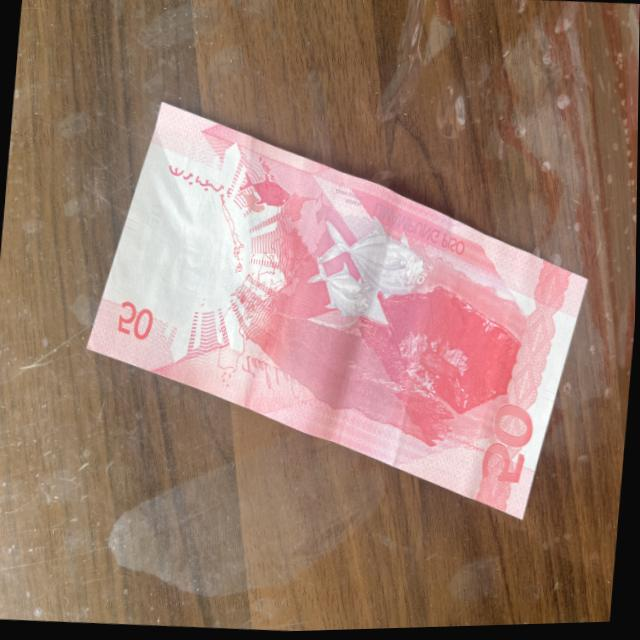50_maliputo: (299, 205, 442, 361)
50_maliputo_watermark: (230, 159, 299, 227)
value_watermark: (142, 196, 170, 243)
watermark: (133, 168, 237, 316)
